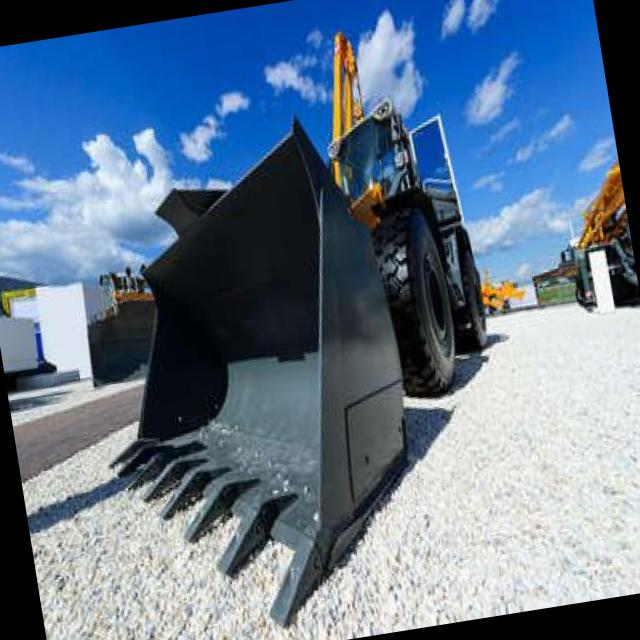pala cargadora: (48, 20, 534, 640), (559, 164, 640, 309)
